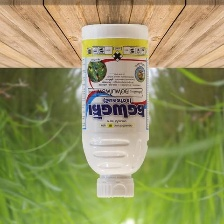insecticide: (78, 19, 151, 201)
